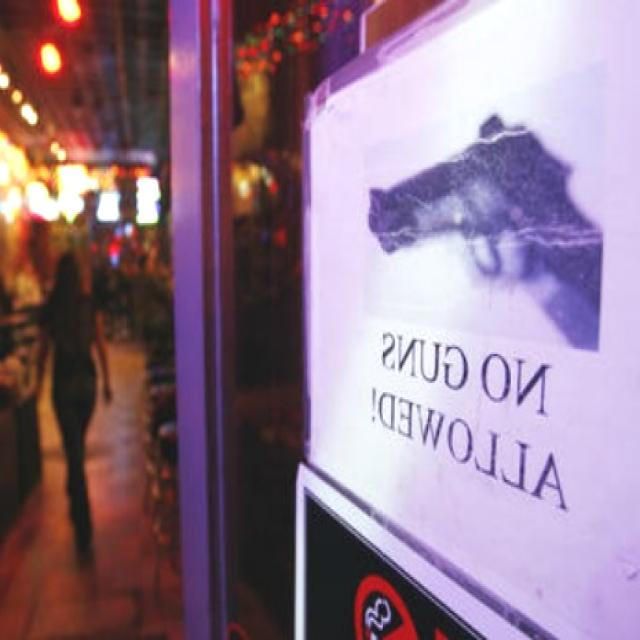pistol: (372, 108, 608, 314)
